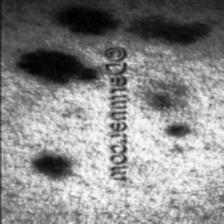Potentially Malignant Skin Tumors: (126, 15, 210, 45), (18, 52, 96, 82), (58, 6, 114, 34), (32, 156, 71, 176)
